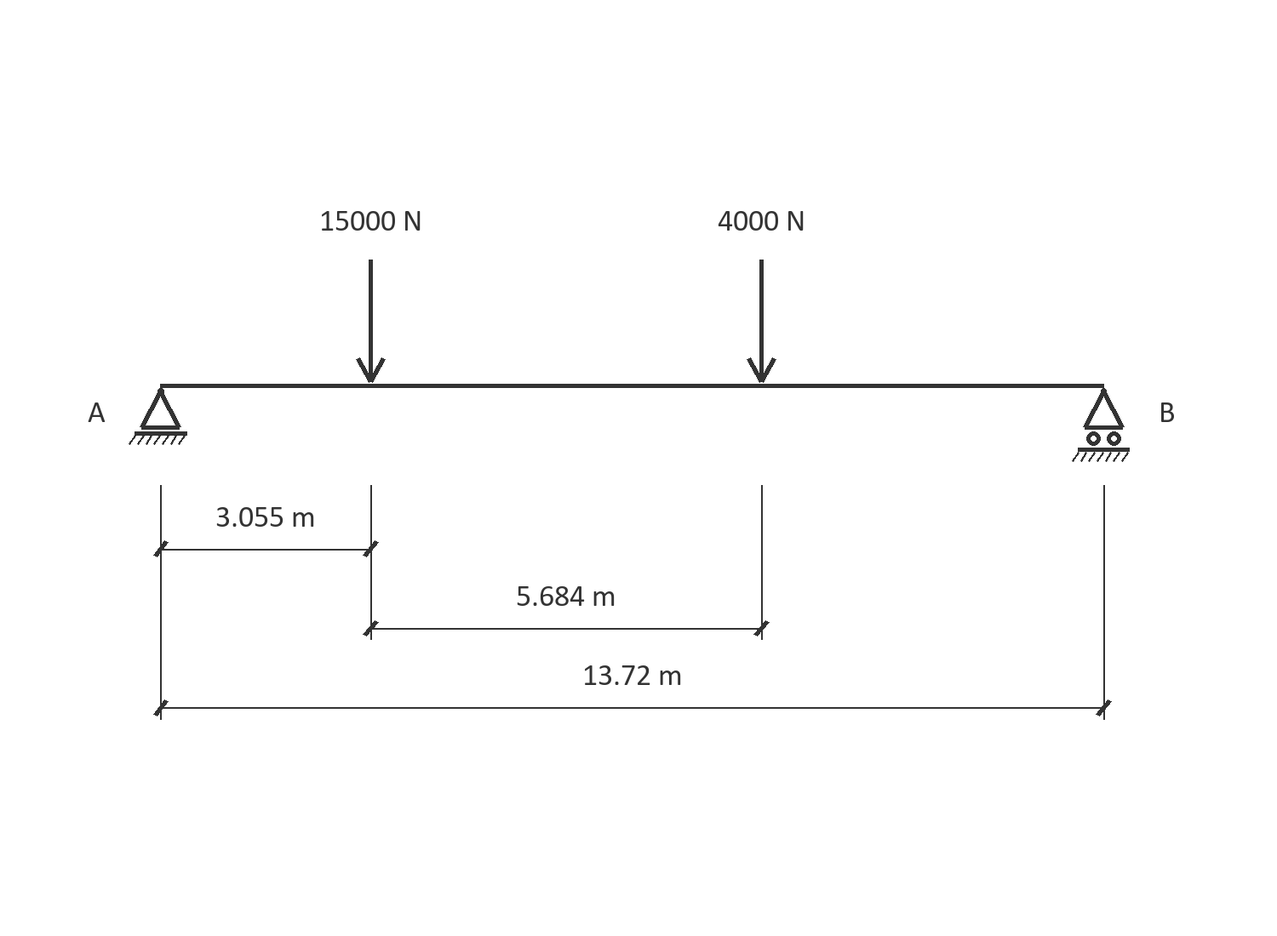pin_support: (129, 388, 187, 445)
point_load: (356, 260, 386, 383), (747, 260, 776, 383)
roller_support: (1072, 388, 1130, 462)
